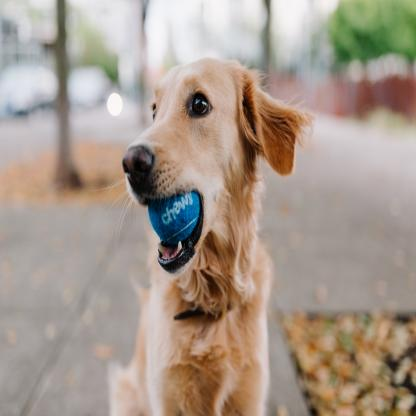Labarador Retriever: (121, 60, 304, 416)
